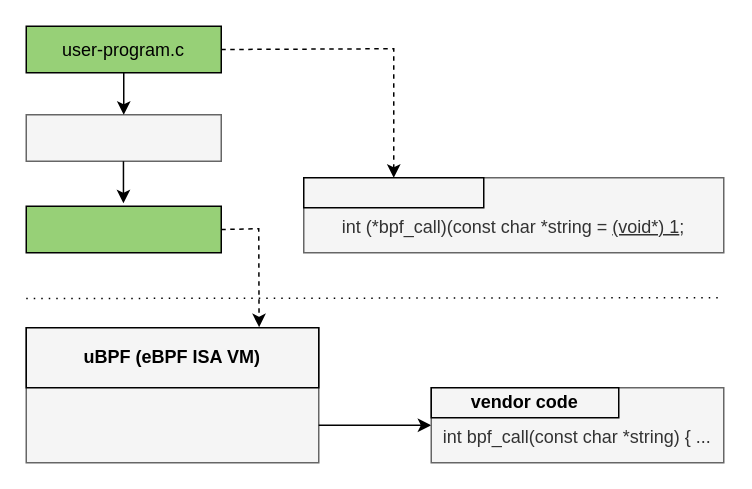
The diagram is 752 pixels wide and 489 high, and some of its shapes have lost their labels. The centre of each missing label's shape, as x and y in pixels:
"llvm clang" belongs at point (123, 137).
"syscall header" belongs at point (393, 192).
"User eBPF bytecode" belongs at point (123, 229).
